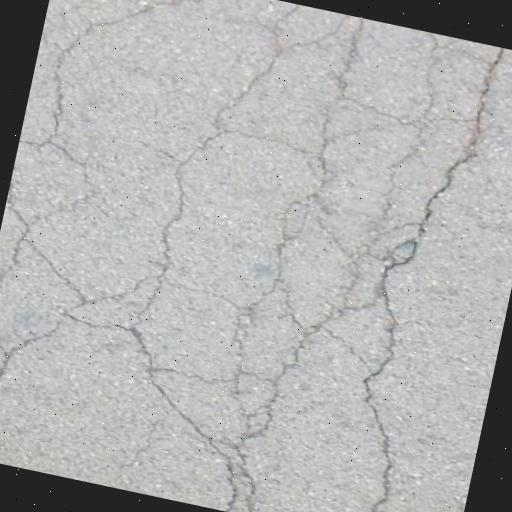spalling: (121, 9, 365, 341), (344, 52, 512, 512), (211, 25, 378, 389), (0, 286, 264, 507), (18, 0, 212, 159), (230, 290, 372, 462)
